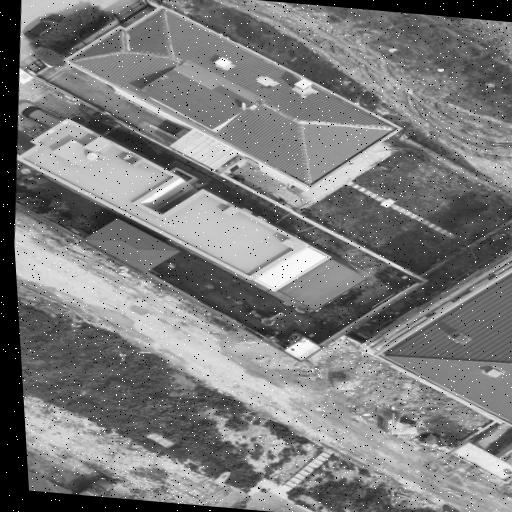car: (18, 101, 62, 126), (24, 13, 63, 39), (73, 477, 116, 496)
